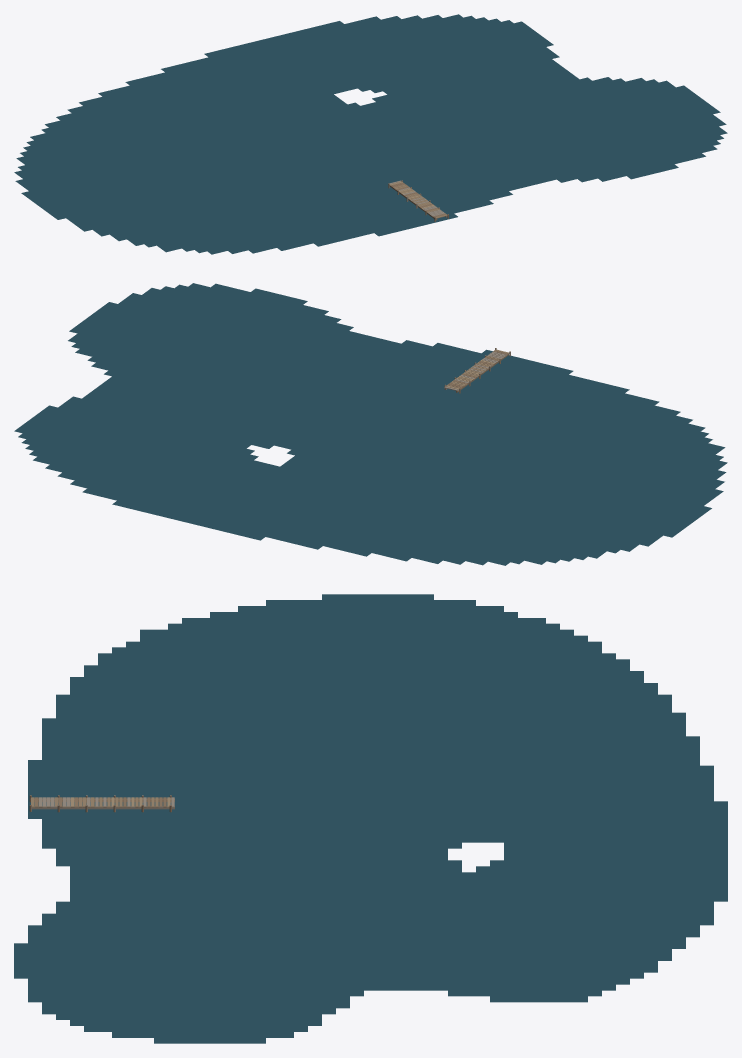
File: extras.glb
3 views of the same model, one above another, from view 1: azimuth 30°, elevation 25°; view 2: azimuth 150°, elevation 25°; view 3: azimuth 270°, elevation 25° (orthographic). The views are drawn at different scales.
Parts seen in each view (by area): view 1: Lake, Jetty; view 2: Lake, Jetty; view 3: Lake, Jetty.
Part boxes in pixels (<box>): Lake: <box>14,14,727,254</box>; Jetty: <box>388,180,448,221</box>; Lake: <box>14,283,727,565</box>; Jetty: <box>444,348,510,393</box>; Lake: <box>14,594,727,1043</box>; Jetty: <box>29,795,174,812</box>.
Size of what is drawn, in the model's own units: 76 by 2.91 by 51.
